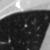node: (7, 38, 12, 44), (23, 23, 28, 28)
